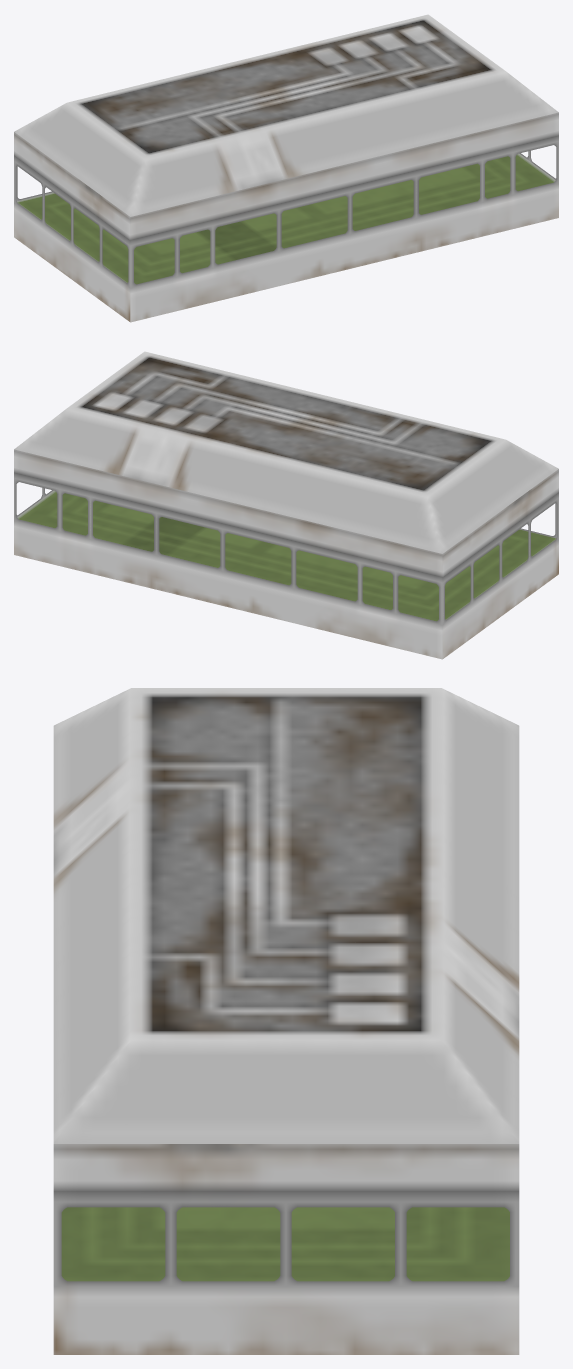
The model's file is walkway.glb.
3 views of the same model, one above another, from view 1: azimuth 30°, elevation 25°; view 2: azimuth 150°, elevation 25°; view 3: azimuth 270°, elevation 25° (orthographic). The views are drawn at different scales.
Parts seen in each view (by area): view 1: Terminal; view 2: Terminal; view 3: Terminal.
Boxes of the visible parts, x1,y1,x2,y2 form: Terminal: [14, 14, 558, 322]; Terminal: [14, 351, 558, 659]; Terminal: [53, 688, 519, 1354].
Bounding box in the file's own units: 25.5 × 8 × 12.
Materials: 1 (1 with a texture image).
